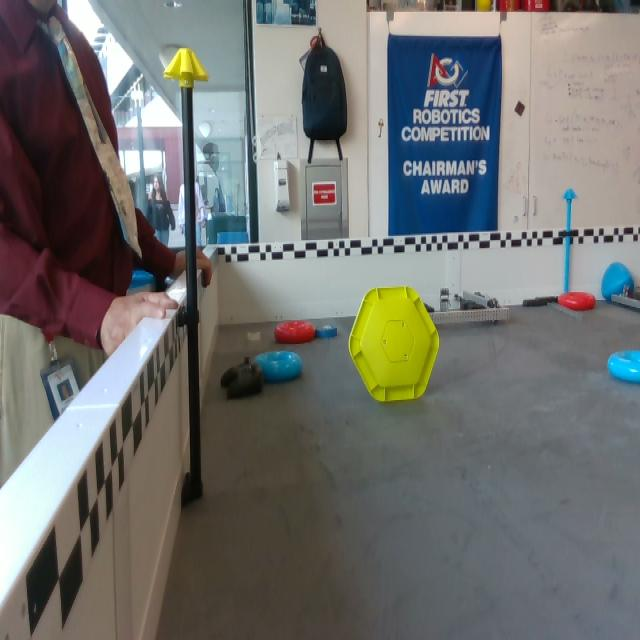Blue-Ring: (251, 351, 304, 385), (608, 347, 639, 389), (317, 323, 339, 342)
Mobile-Goal: (348, 287, 438, 405)
Red-Ring: (554, 291, 598, 313), (275, 321, 314, 344), (553, 292, 597, 312)
Yellow-Stake-Head: (164, 47, 210, 82)
zblue-Stake-Head: (562, 189, 578, 199)
